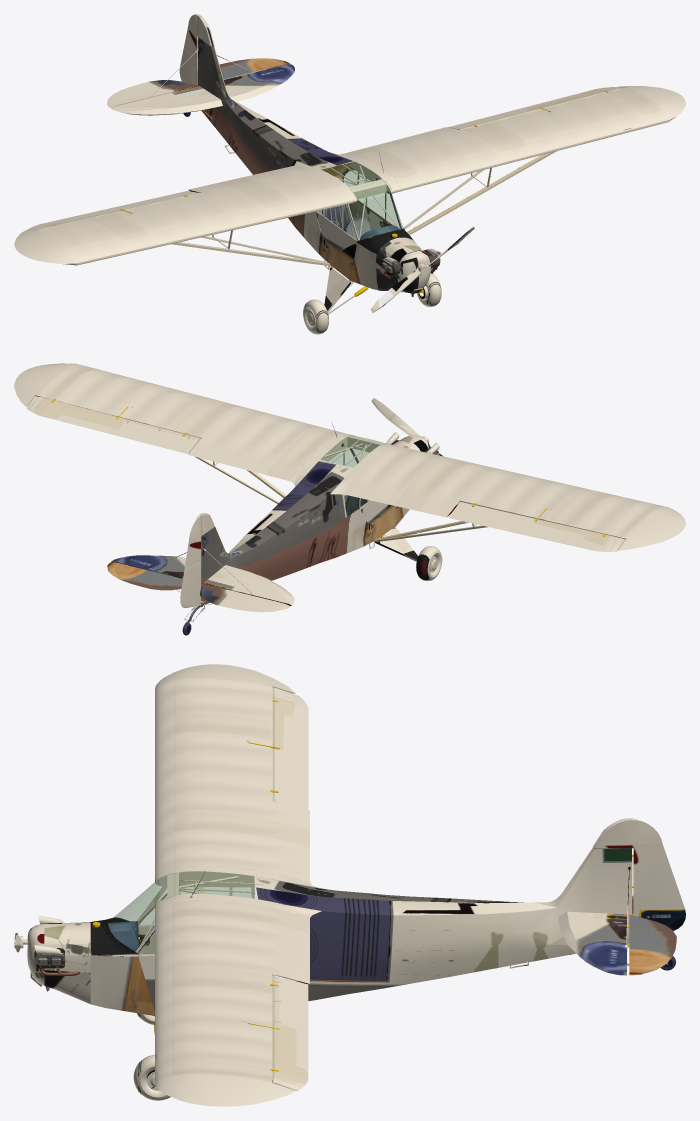
The model's file is tahoe.gltf.
The picture shows the model from 3 angles, top to bottom: view 1: azimuth 30°, elevation 25°; view 2: azimuth 150°, elevation 25°; view 3: azimuth 270°, elevation 25°; orthographic projection. The views are drawn at different scales.
Visible parts, largest first — view 1: Exterior; view 2: Exterior; view 3: Exterior.
Boxes of the visible parts, <box> form: Exterior: <box>14,14,685,334</box>; Exterior: <box>14,363,685,635</box>; Exterior: <box>14,664,685,1106</box>.
Size of the model in its own units: 10.65 by 2.73 by 6.86.
Materials: 73 (61 with a texture image).
